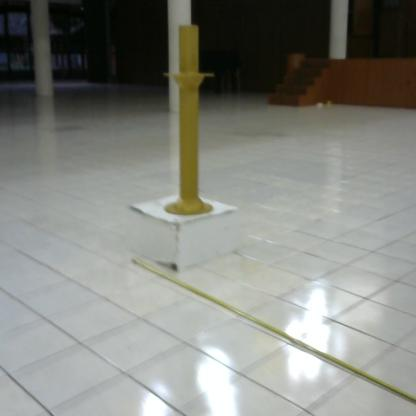pole: (158, 19, 221, 222)
